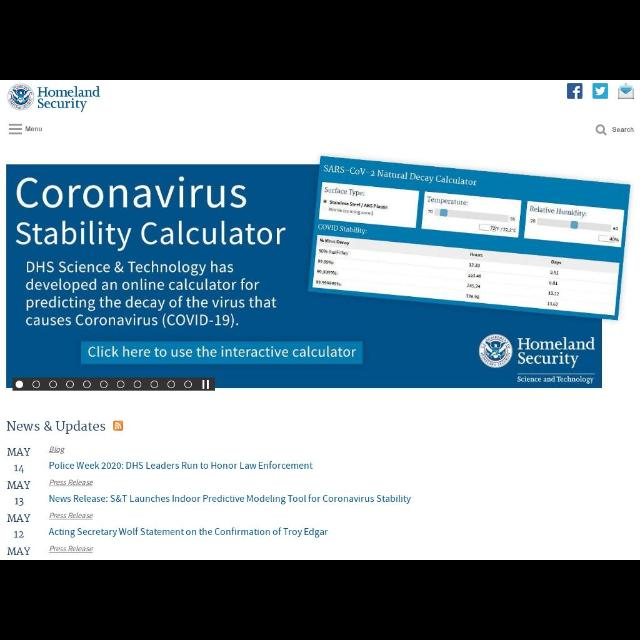icon: (596, 124, 608, 136), (8, 124, 22, 134)
image: (5, 156, 631, 380), (7, 84, 101, 112), (567, 83, 583, 99), (592, 83, 608, 99), (618, 83, 634, 99), (112, 421, 124, 431)
pageindicator: (13, 378, 215, 390)
text: (49, 495, 411, 505), (49, 528, 329, 538), (49, 462, 313, 470), (6, 422, 106, 434), (48, 479, 94, 487), (49, 512, 93, 520), (48, 546, 94, 552), (8, 448, 30, 456), (8, 481, 30, 489), (8, 514, 30, 522), (8, 547, 30, 555), (612, 127, 634, 133), (49, 446, 65, 454), (13, 464, 24, 474), (26, 126, 42, 132), (14, 498, 24, 507), (14, 532, 24, 538)
